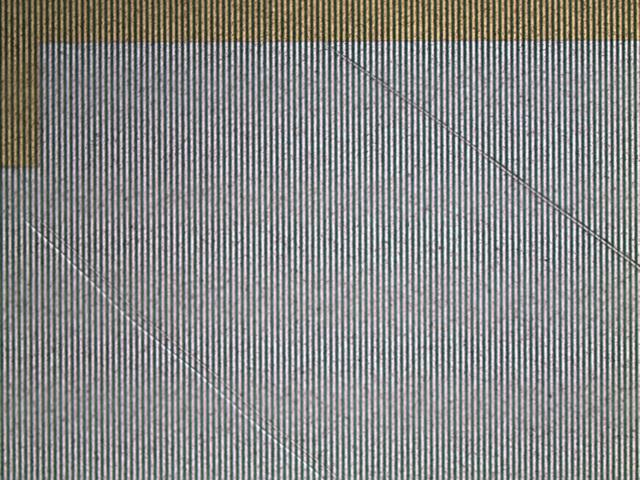SCRATCH: (12, 1, 640, 480)
